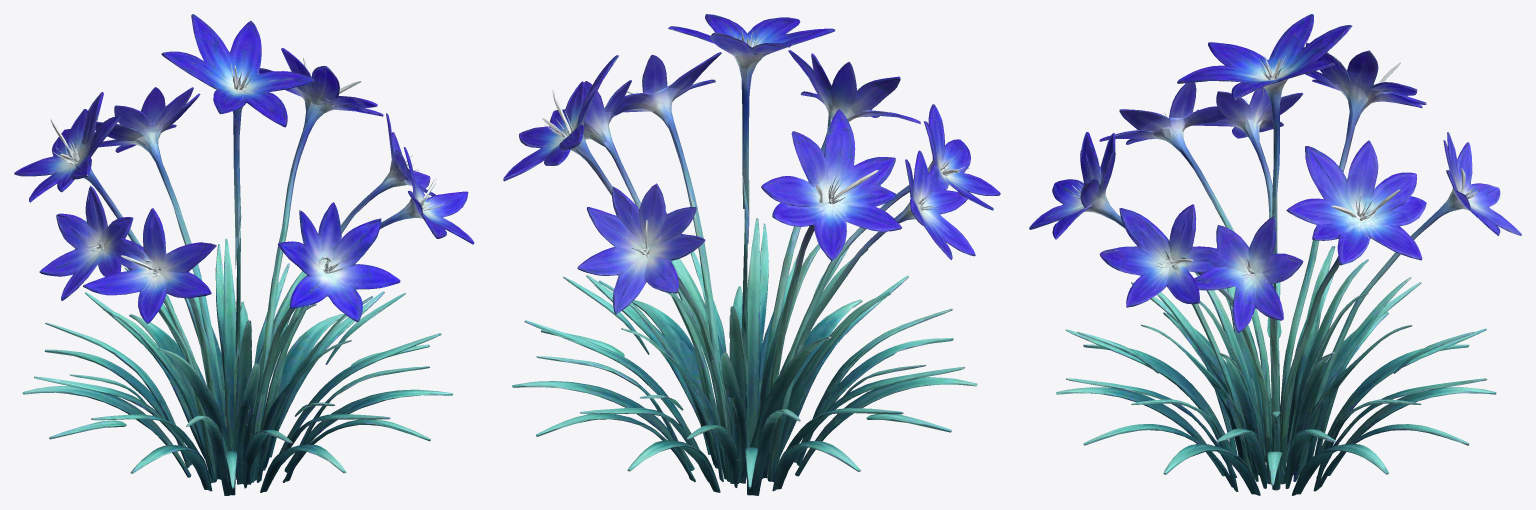
Rendered from hf_starflower.glb.
3 renders of one model, left to right at view 1: azimuth 30°, elevation 25°; view 2: azimuth 150°, elevation 25°; view 3: azimuth 270°, elevation 25°, orthographic. The views are drawn at different scales.
Bounding box in the file's own units: 1.78 × 1.9 × 1.89.
Materials: 1 (1 with a texture image).
